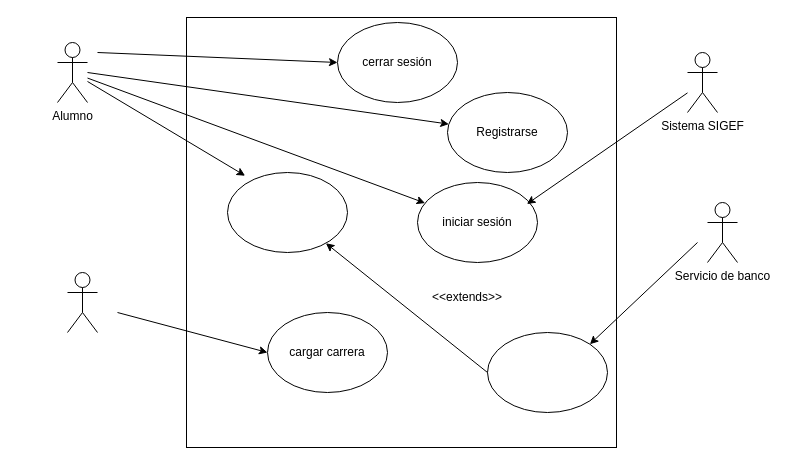
The diagram is 787 pixels wide and 465 high, and some of its shapes have lost their labels. Each missing label, with the centre of its shape:
"Empleado administrativo" goes at point (82, 302).
"inscribirse" goes at point (287, 212).
"pagar con tarjeta" goes at point (547, 372).
